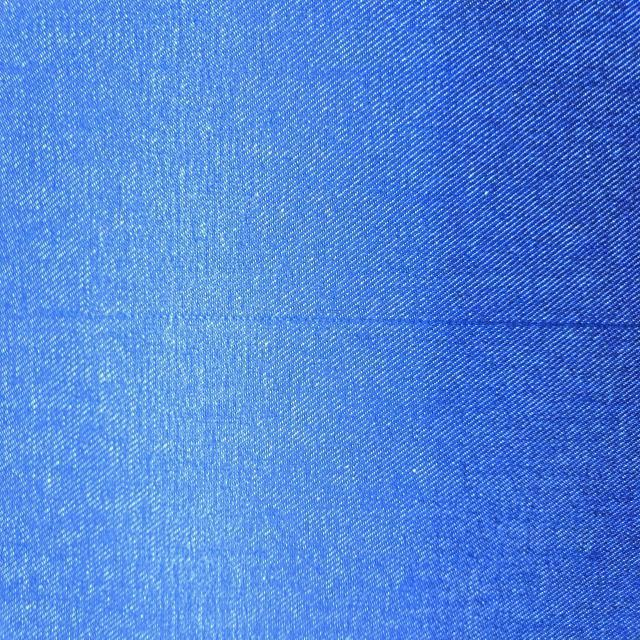Line: (0, 312, 640, 332)
